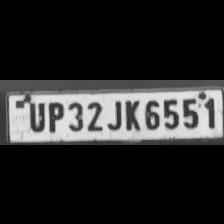1: (200, 94, 218, 128)
2: (84, 97, 104, 131)
3: (65, 97, 83, 130)
5: (160, 95, 180, 129), (179, 95, 199, 129)
6: (140, 96, 160, 130)
J: (104, 97, 122, 131)
K: (122, 96, 142, 130)
P: (44, 98, 64, 132)
U: (24, 98, 46, 132)
